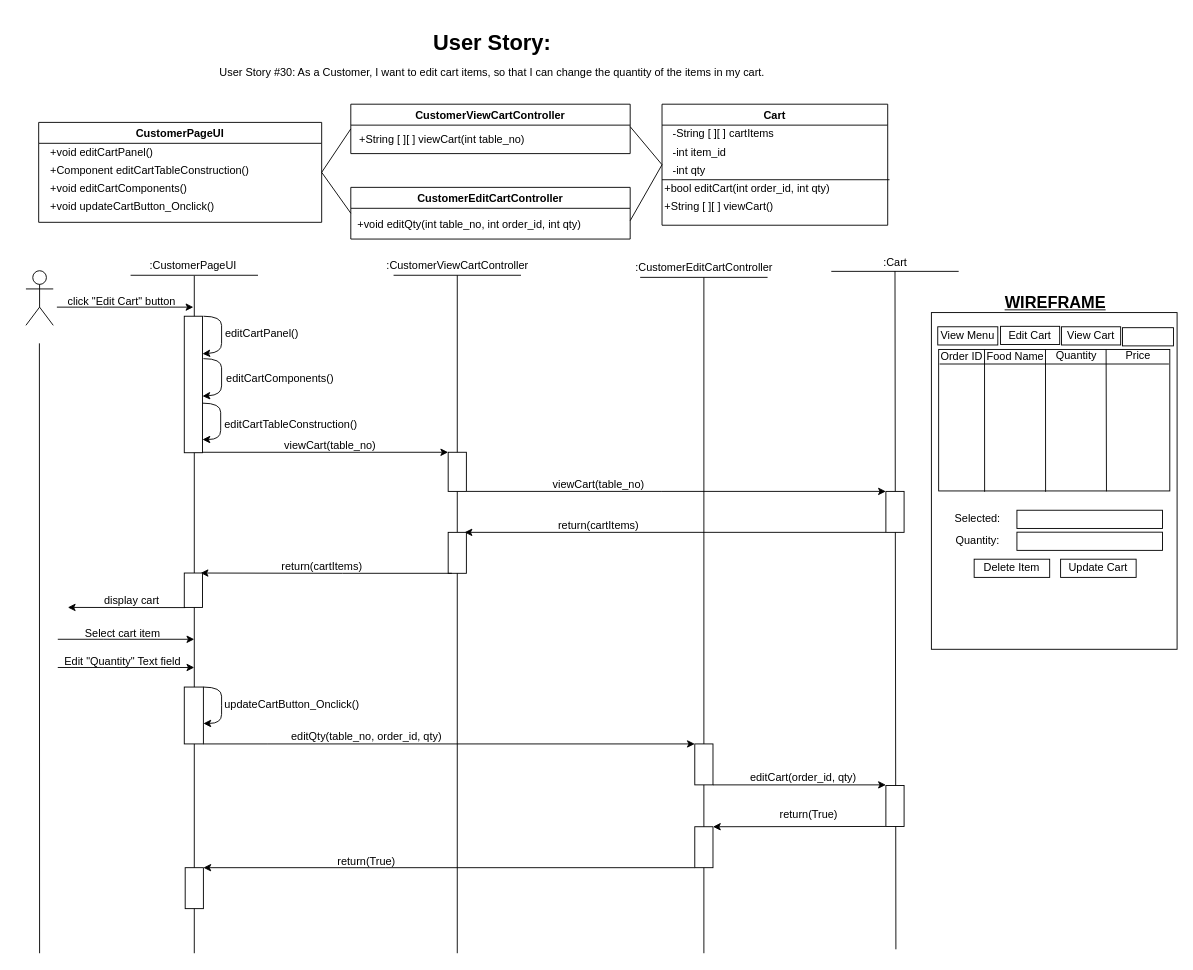
Some shapes in this 1193 by 970 pixel diagram are drawn without their labels. The shapes that lost their labels are listed below. From the top down, each one's centre as x and y in pixels, then its label:
At point 39,297: "Customer".
At point 1147,336: "Payment".
